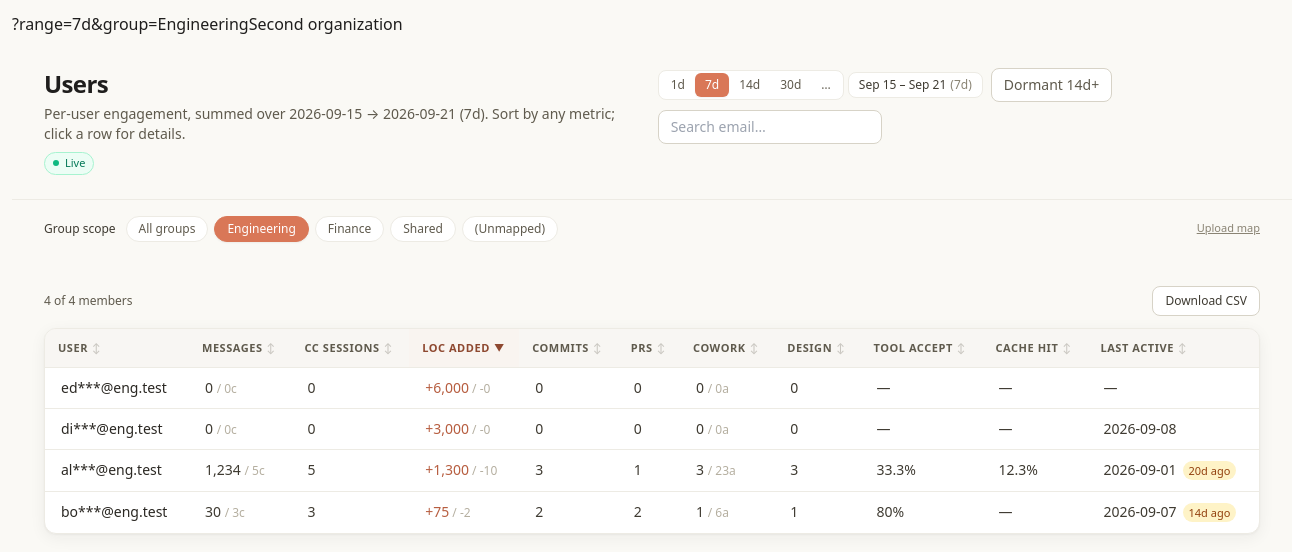
Test case: Users search, counts and empty states › distinguishes no matches, disables export and resets only the local filters
Click the button "Dormant 14d+" at (1052, 85), box [991,68,1112,102]
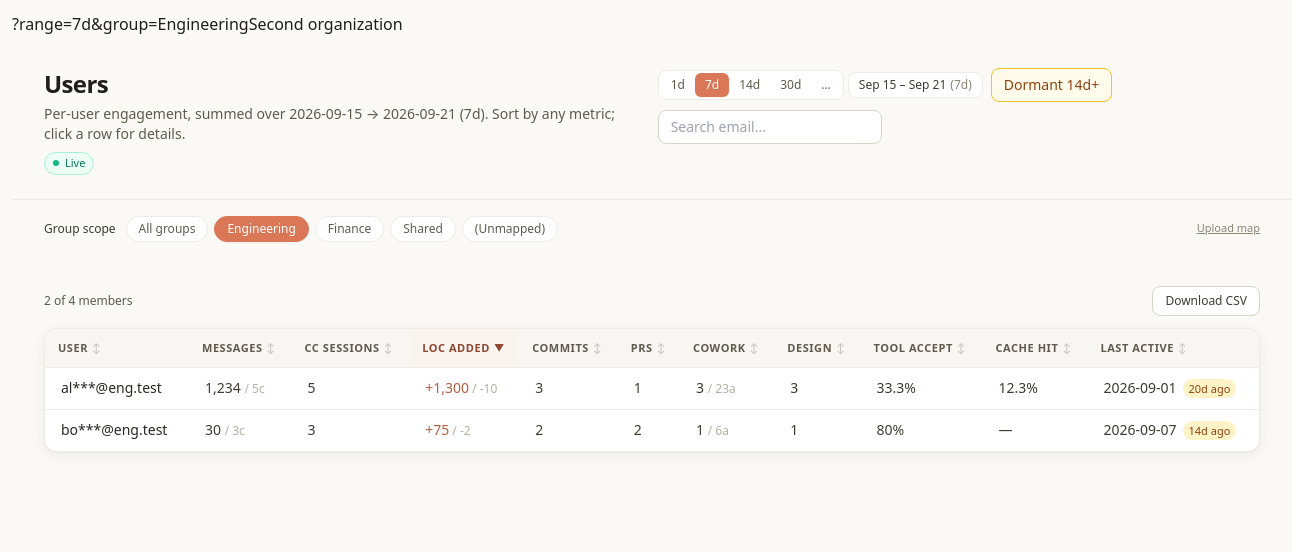
Click the button "LOC Added ▼" at (464, 348), box [410,330,518,366]
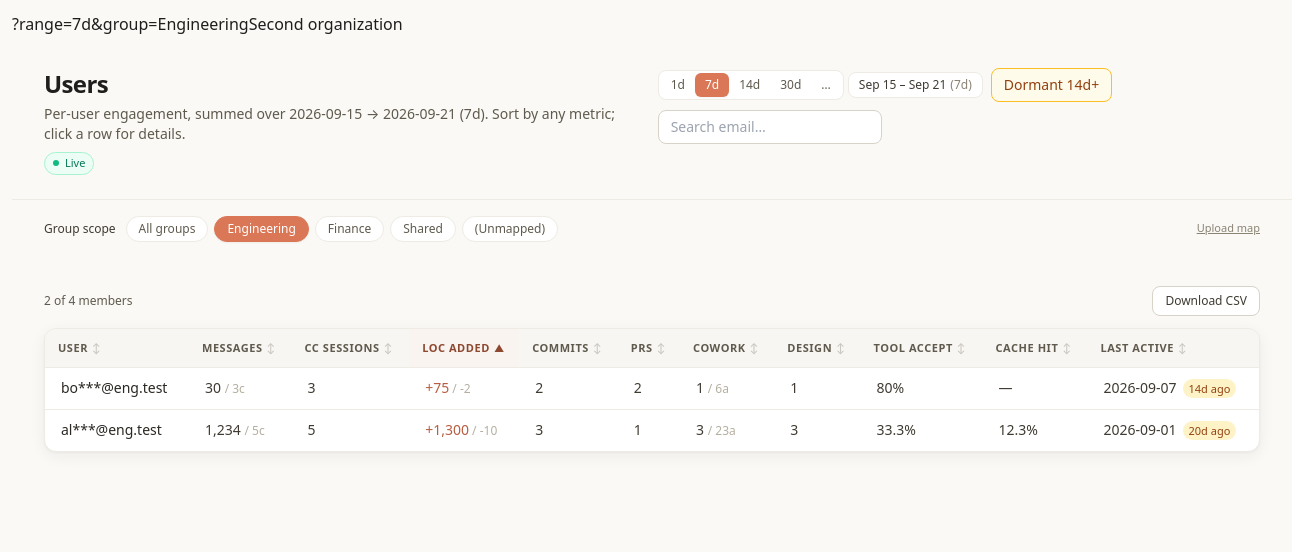
Type "absent" into the search field with placeholder "Search email…" at (770, 127), box [658,110,882,144]
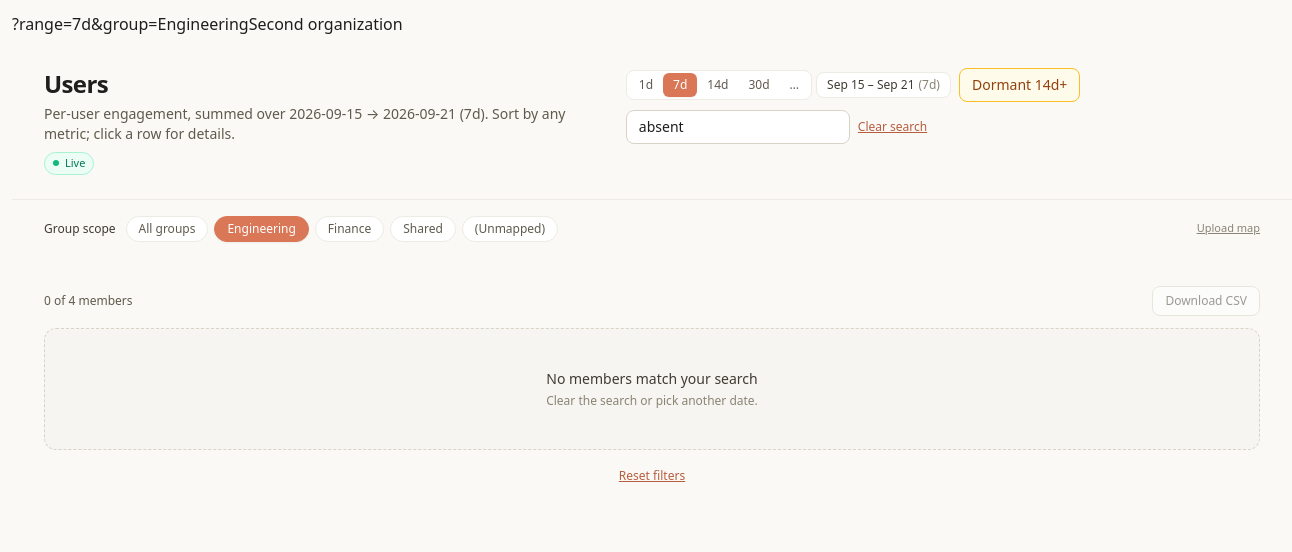
Now the text "No members match your search" is shown, box [546,368,758,388]
Now the button "Download CSV" is disabled, box [1152,286,1260,316]
Click the button "Reset filters" at (652, 476), box [619,468,685,484]
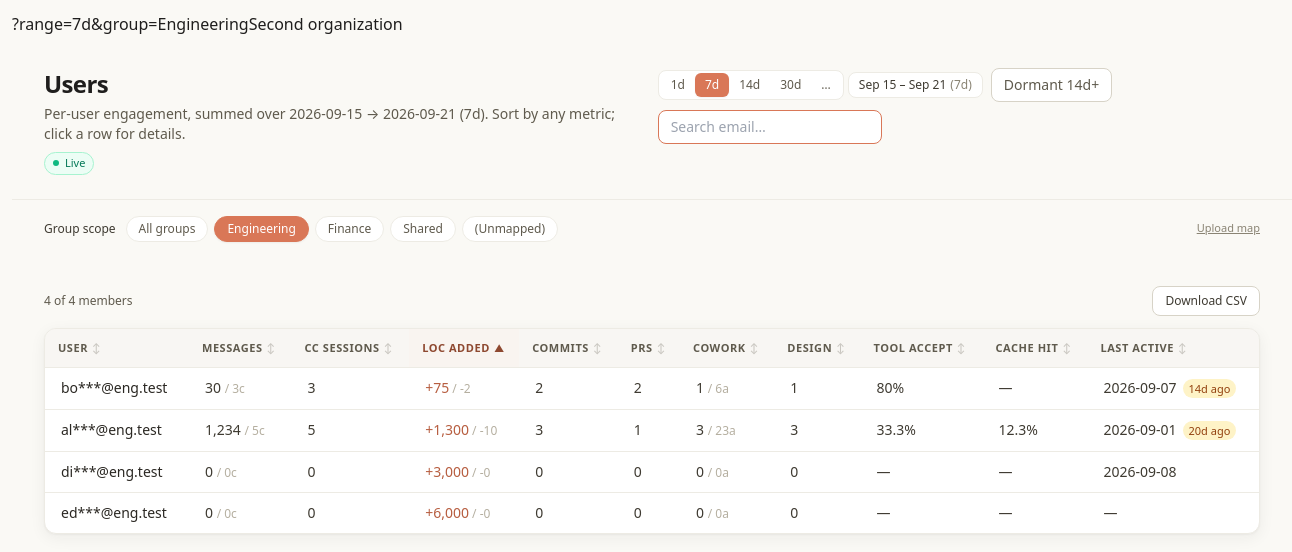
Expected: the button "Engineering" is shown, [214,216,309,242]
Now the search field with placeholder "Search email…" is empty, box [658,110,882,144]
